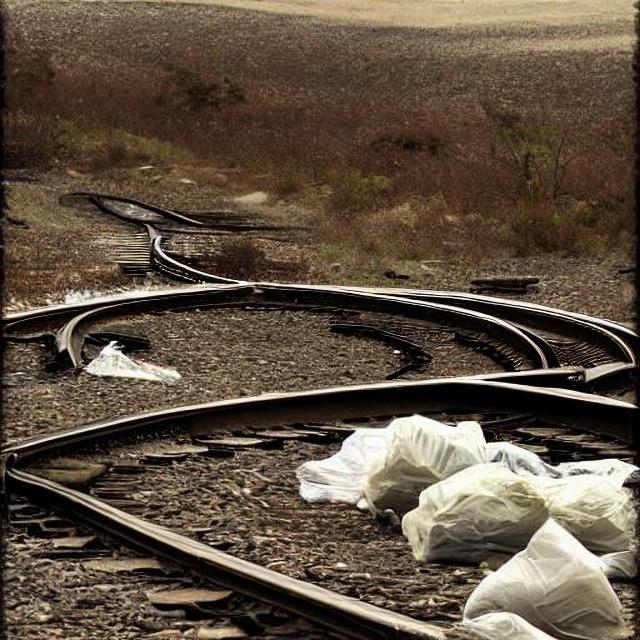plastic bag: (310, 402, 640, 640)
